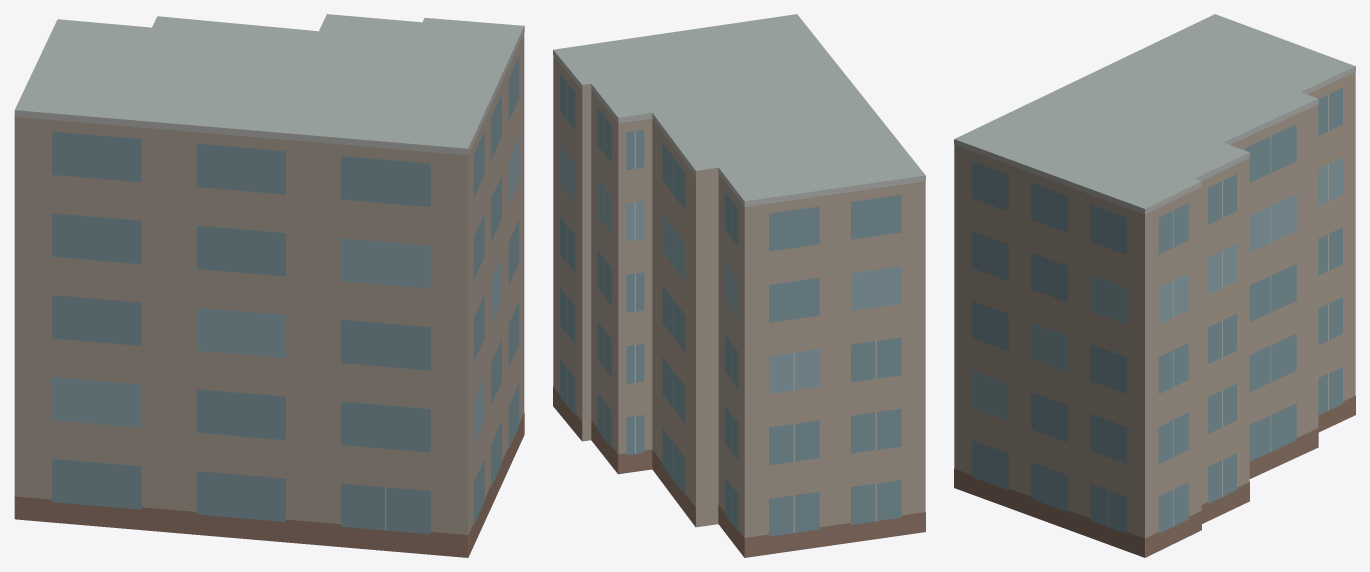
File: survey-upis-32691821.glb
3 views of the same model, side by side, from view 1: azimuth 30°, elevation 25°; view 2: azimuth 150°, elevation 25°; view 3: azimuth 270°, elevation 25° (orthographic). The views are drawn at different scales.
Parts seen in each view (by area): view 1: survey-upis-32691821.tmp; view 2: survey-upis-32691821.tmp; view 3: survey-upis-32691821.tmp.
Part boxes in pixels (left/top/right/bottom): survey-upis-32691821.tmp: left=14, top=14, right=524, bottom=557; survey-upis-32691821.tmp: left=553, top=14, right=925, bottom=557; survey-upis-32691821.tmp: left=954, top=14, right=1355, bottom=557.
Bounding box in the file's own units: 18.29 × 15.25 × 15.92.
